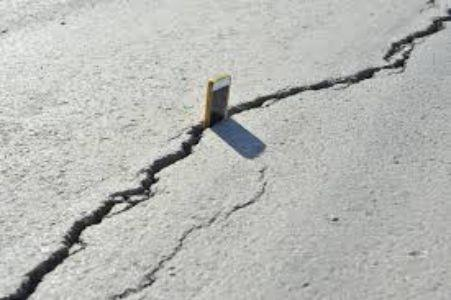crack: (118, 174, 270, 300), (0, 185, 121, 300), (112, 105, 244, 202), (221, 61, 410, 124), (390, 0, 451, 70)
